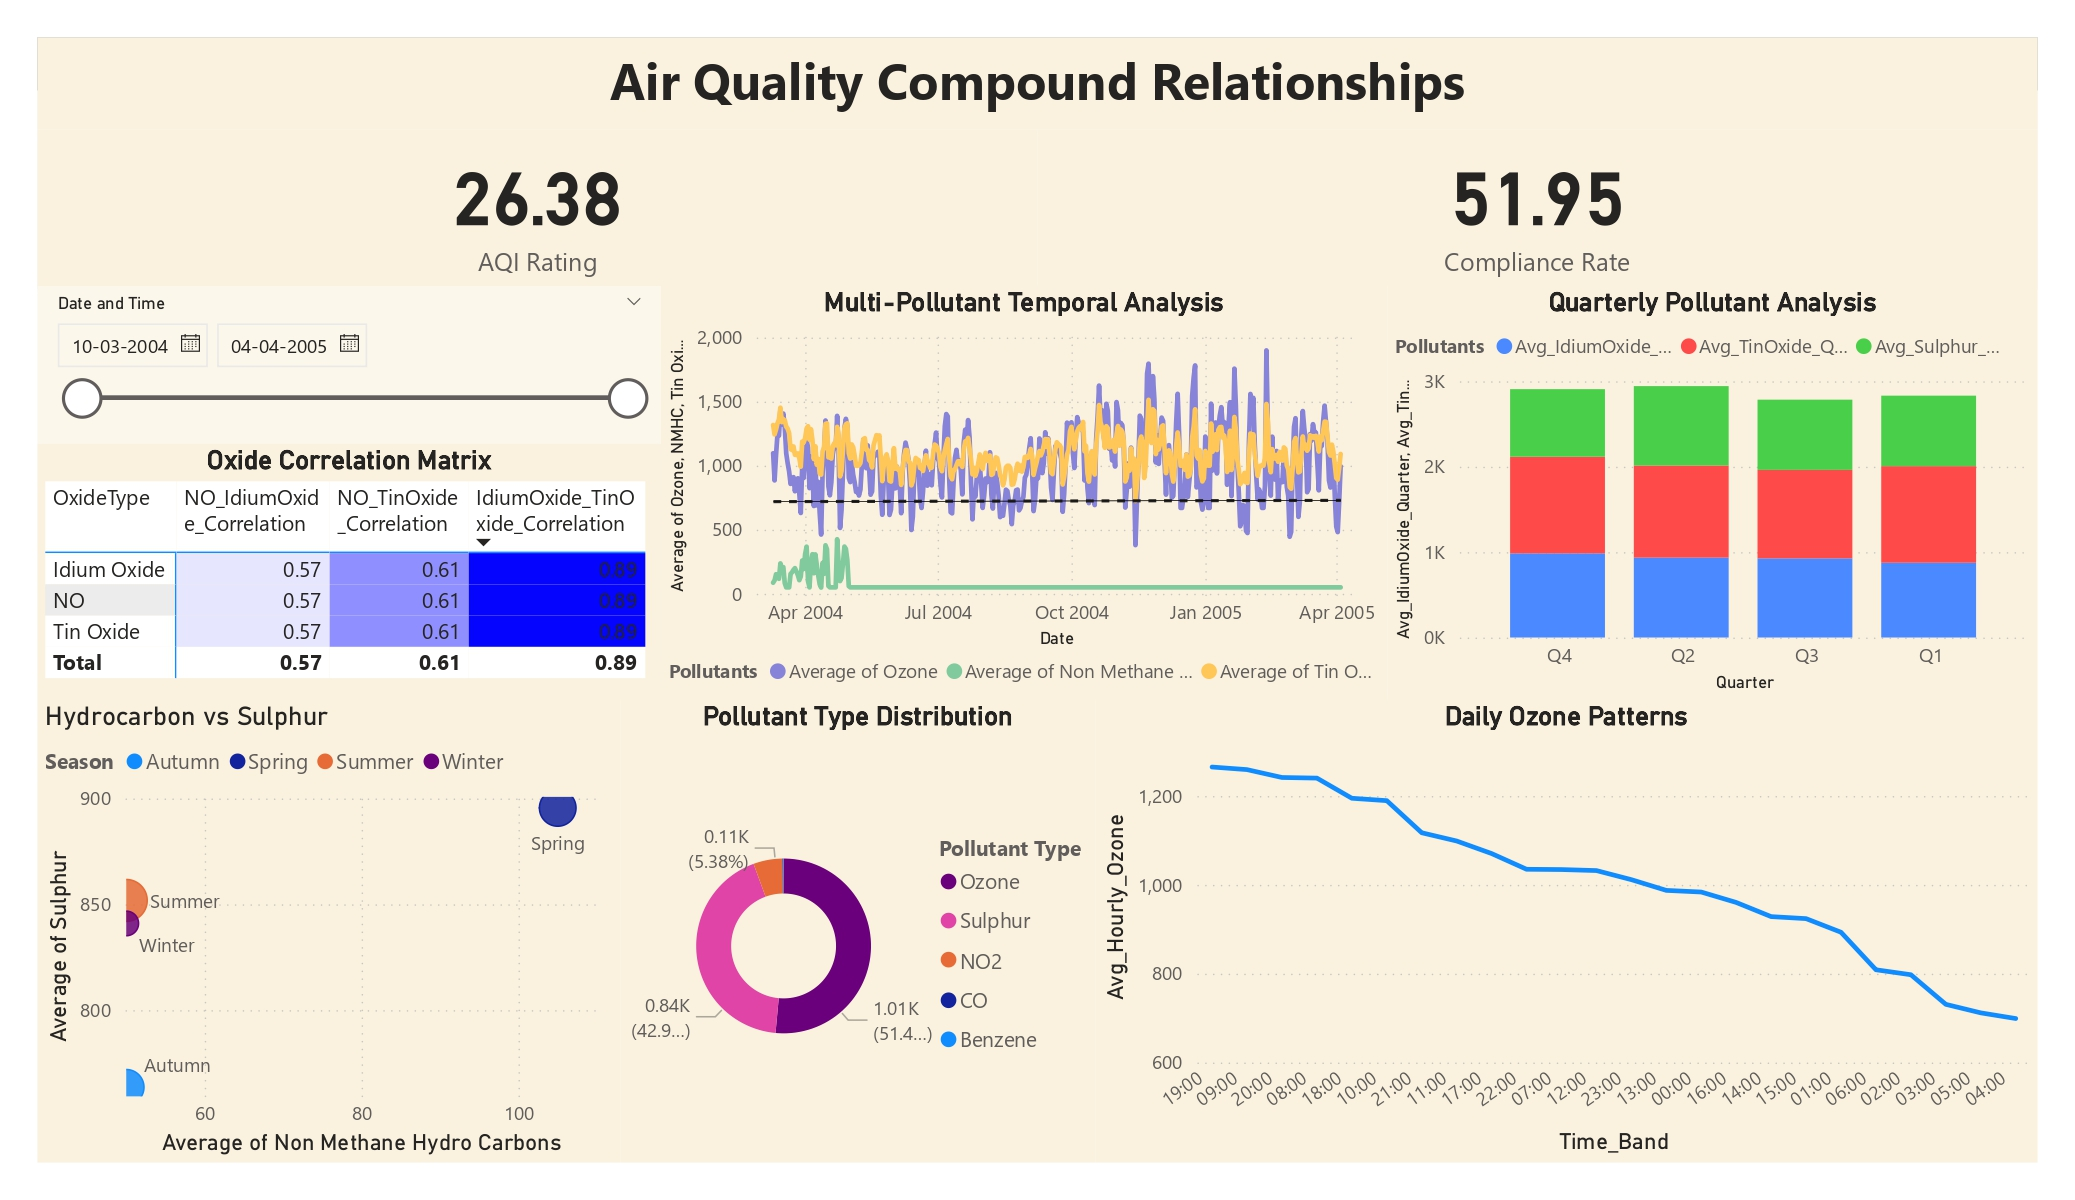

Layout of this report page (visuals, bound fields, positions):
{"tool":"powerbi","page":{"name":"Advanced Compound Relations","canvas":[1280,720],"ordinal":1},"visuals":[{"type":"textbox","box":[0,0,1280,58.6],"z":0},{"type":"card","fields":{"Values":["AirQualityUCI.AQI Rating"]},"box":[0,58.6,640,100],"z":1},{"type":"card","fields":{"Values":["AirQualityUCI.Compliance Rate"]},"box":[640,58.6,640,100],"z":2},{"type":"lineChart","title":"Multi-Pollutant Temporal Analysis","fields":{"Category":["AirQualityUCI.Date"],"Y":["Avg(AirQualityUCI.Ozone)","Avg(AirQualityUCI.Non Methane Hydro Carbons)","Avg(AirQualityUCI.Tin Oxide)"]},"box":[398.6,158.6,465.7,265.7],"z":3},{"type":"scatterChart","title":"Hydrocarbon vs Sulphur","fields":{"X":["Avg(AirQualityUCI.Non Methane Hydro Carbons)"],"Y":["Avg(AirQualityUCI.Sulphur)"],"Size":["Sum(AirQualityUCI.Temperature in Celsius)"],"Series":["AirQualityUCI.Season"]},"box":[0,424.3,372.9,295.7],"z":4},{"type":"pivotTable","title":"Oxide Correlation Matrix","fields":{"Rows":["OxideTypes.OxideType"],"Columns":["OxideTypes.OxideType"],"Values":["AirQualityUCI.NO_IdiumOxide_Correlation","AirQualityUCI.NO_TinOxide_Correlation","AirQualityUCI.IdiumOxide_TinOxide_Correlation"]},"box":[0,260,398.6,164.3],"z":5},{"type":"lineChart","title":"Daily Ozone Patterns","fields":{"Category":["AirQualityUCI.Time_Band"],"Y":["AirQualityUCI.Avg_Hourly_Ozone"]},"box":[677.1,424.3,602.9,295.7],"z":6},{"type":"donutChart","title":"Pollutant Type Distribution","fields":{"Category":["Pollutant_Summary.Pollutant Type"],"Y":["Sum(Pollutant_Summary.Average)"]},"box":[372.9,424.3,304.3,295.7],"z":7},{"type":"slicer","fields":{"Values":["AirQualityUCI.Date and Time"]},"box":[0,158.6,398.6,101.4],"z":8},{"type":"columnChart","title":"Quarterly Pollutant Analysis","fields":{"Category":["AirQualityUCI.Quarter"],"Y":["AirQualityUCI.Avg_IdiumOxide_Quarter","AirQualityUCI.Avg_TinOxide_Quarter","AirQualityUCI.Avg_Sulphur_Quarter"]},"box":[864.3,158.6,415.7,265.7],"z":9}]}

Visuals, with their boxes on the page's 1280x720 design canvas (x1, y1, x2, y2). These are canvas units, not pixel positions in the 2075x1200 screenshot, which may show the page scaled, cropped or inside an application window:
textbox: [left=0, top=0, right=1280, bottom=59]
card - AirQualityUCI.AQI Rating: [left=0, top=59, right=640, bottom=159]
card - AirQualityUCI.Compliance Rate: [left=640, top=59, right=1280, bottom=159]
"Multi-Pollutant Temporal Analysis" lineChart: [left=399, top=159, right=864, bottom=424]
"Hydrocarbon vs Sulphur" scatterChart: [left=0, top=424, right=373, bottom=720]
"Oxide Correlation Matrix" pivotTable: [left=0, top=260, right=399, bottom=424]
"Daily Ozone Patterns" lineChart: [left=677, top=424, right=1280, bottom=720]
"Pollutant Type Distribution" donutChart: [left=373, top=424, right=677, bottom=720]
slicer - AirQualityUCI.Date and Time: [left=0, top=159, right=399, bottom=260]
"Quarterly Pollutant Analysis" columnChart: [left=864, top=159, right=1280, bottom=424]
